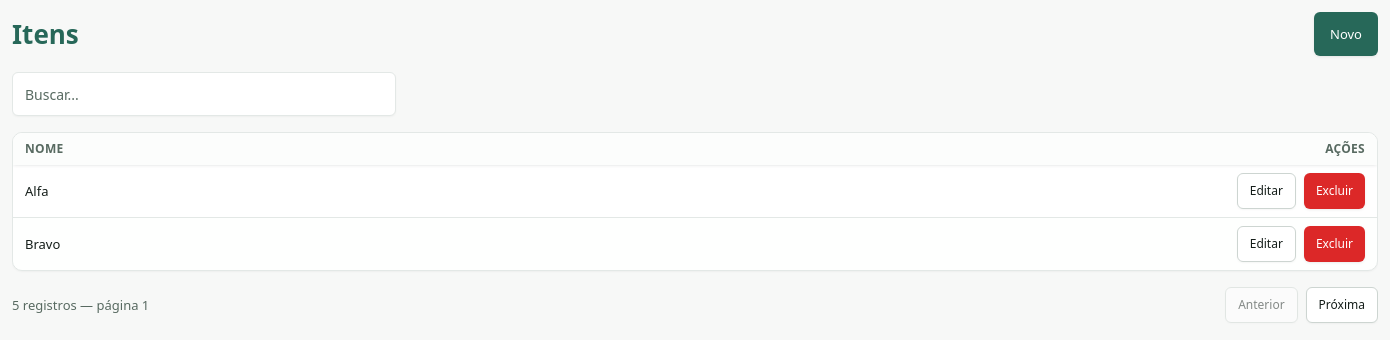
Test case: CrudPage — paginação › mudar a busca volta para a página 1
The width and height of the screenshot is (1390, 340).
Expected: the text "Alfa" is shown, [13,165,410,218]
Click the button "Próxima" at (1342, 305), box [1306,287,1378,323]
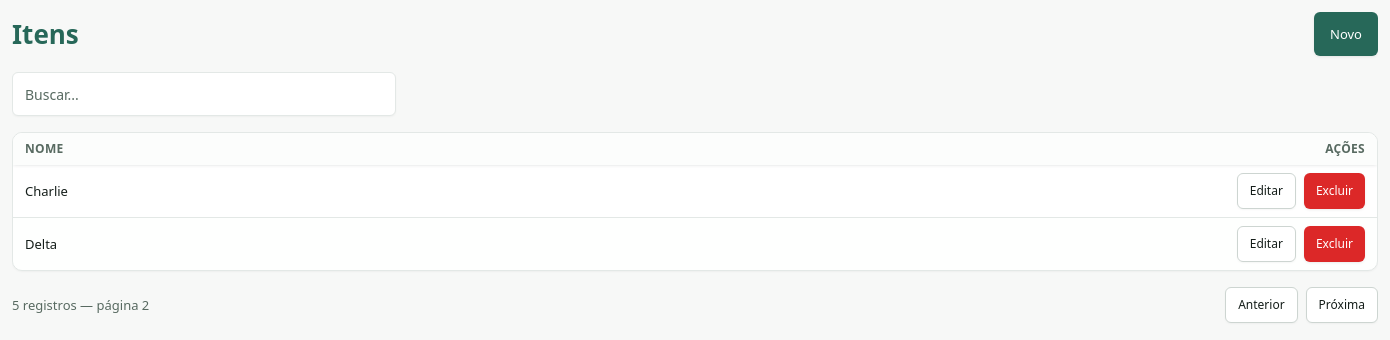
Now the text "Charlie" is shown, box [13,165,430,218]
Type "alf" into the field with placeholder "Buscar..." at (204, 94), box [12,72,396,116]
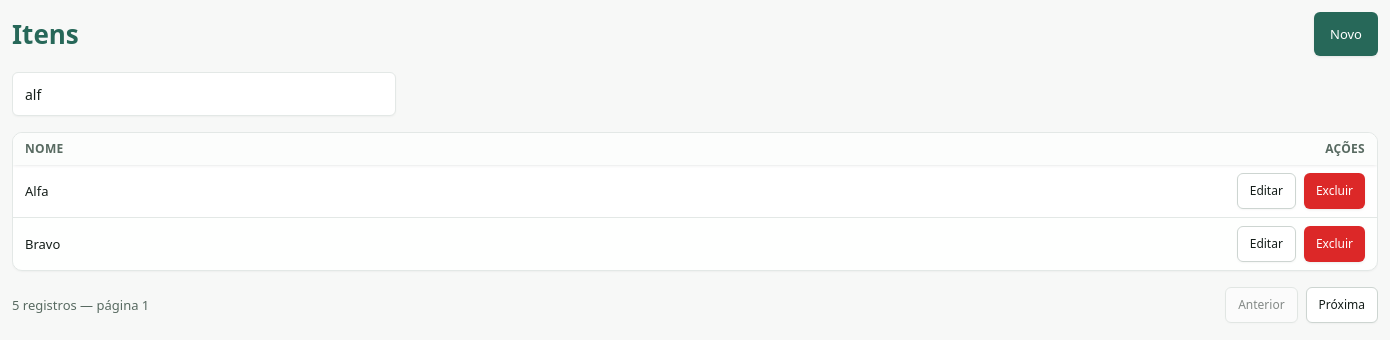
Now the text "5 registros — página 1" is shown, box [12,296,149,314]
